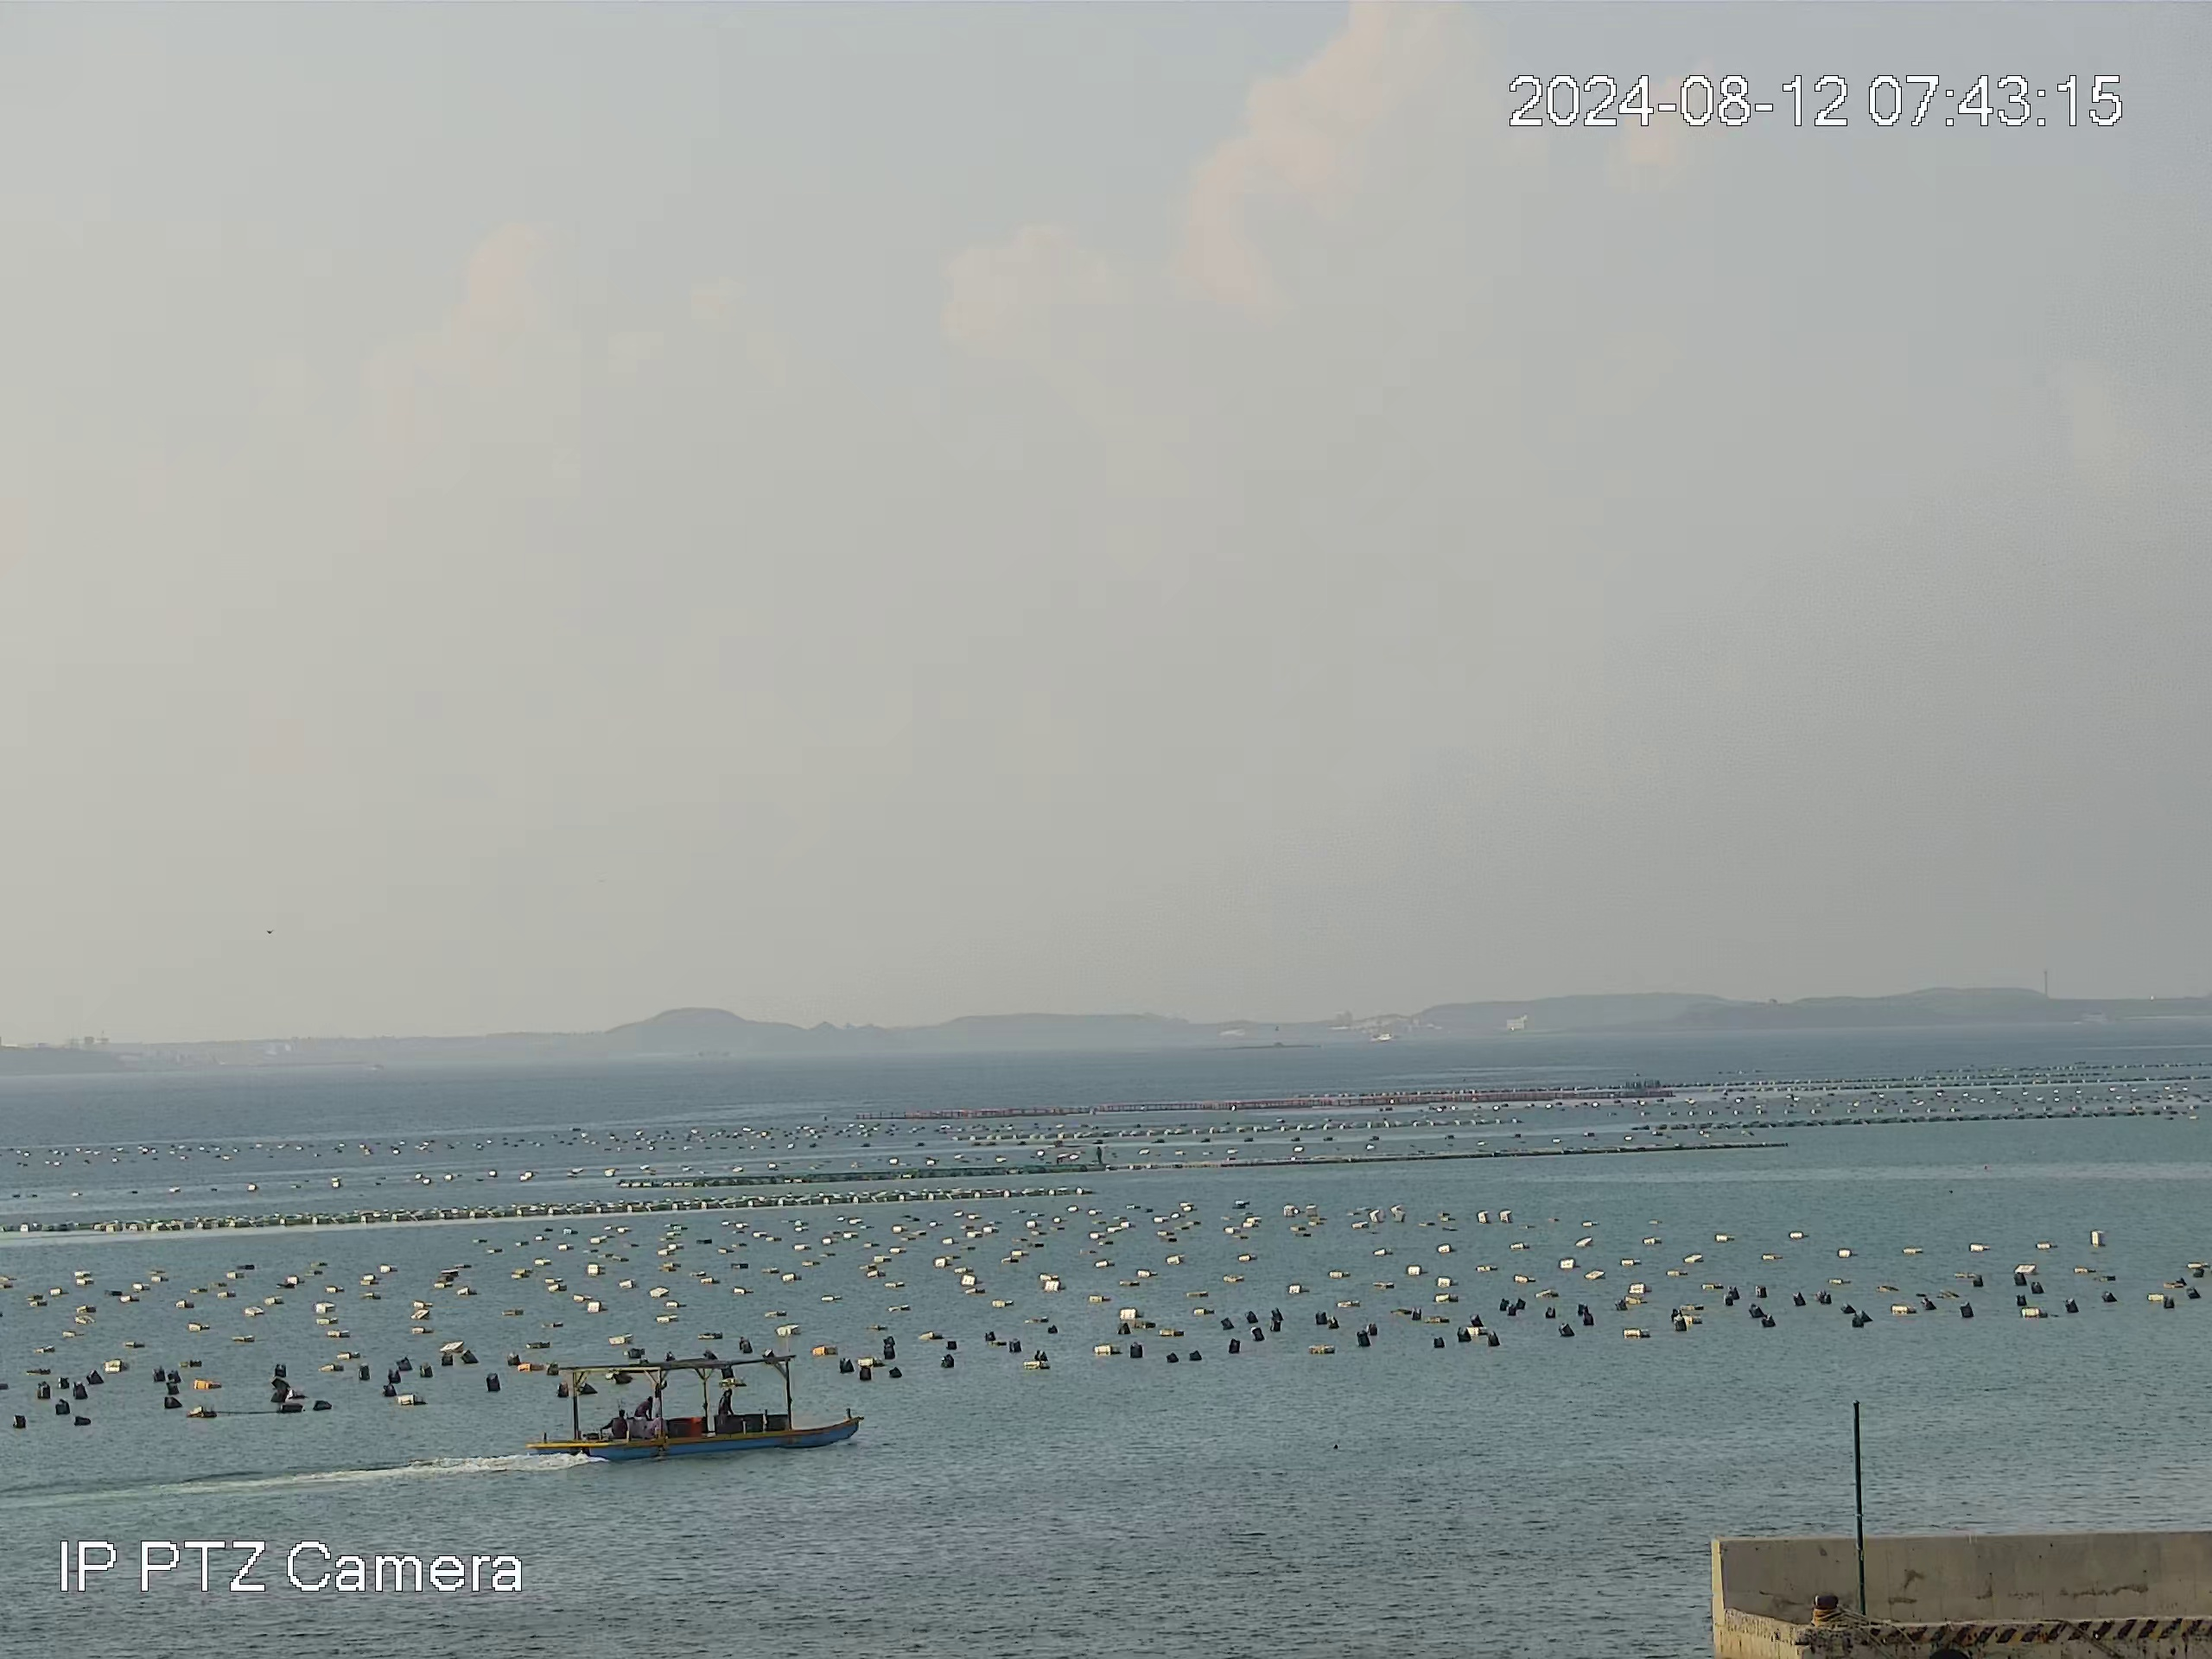boat: (522, 1352, 868, 1458)
